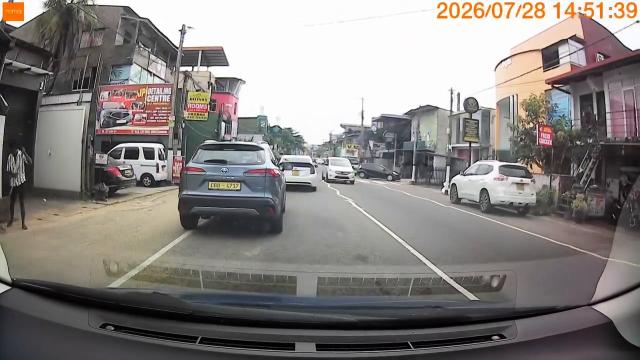number plate: (206, 179, 245, 195)
